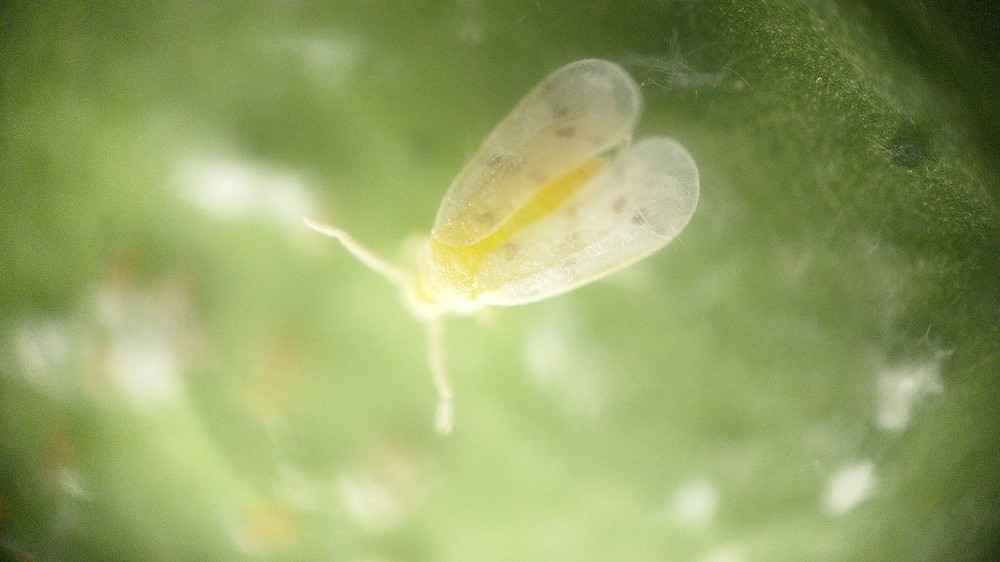Mosca Blanca: (288, 56, 723, 446)
